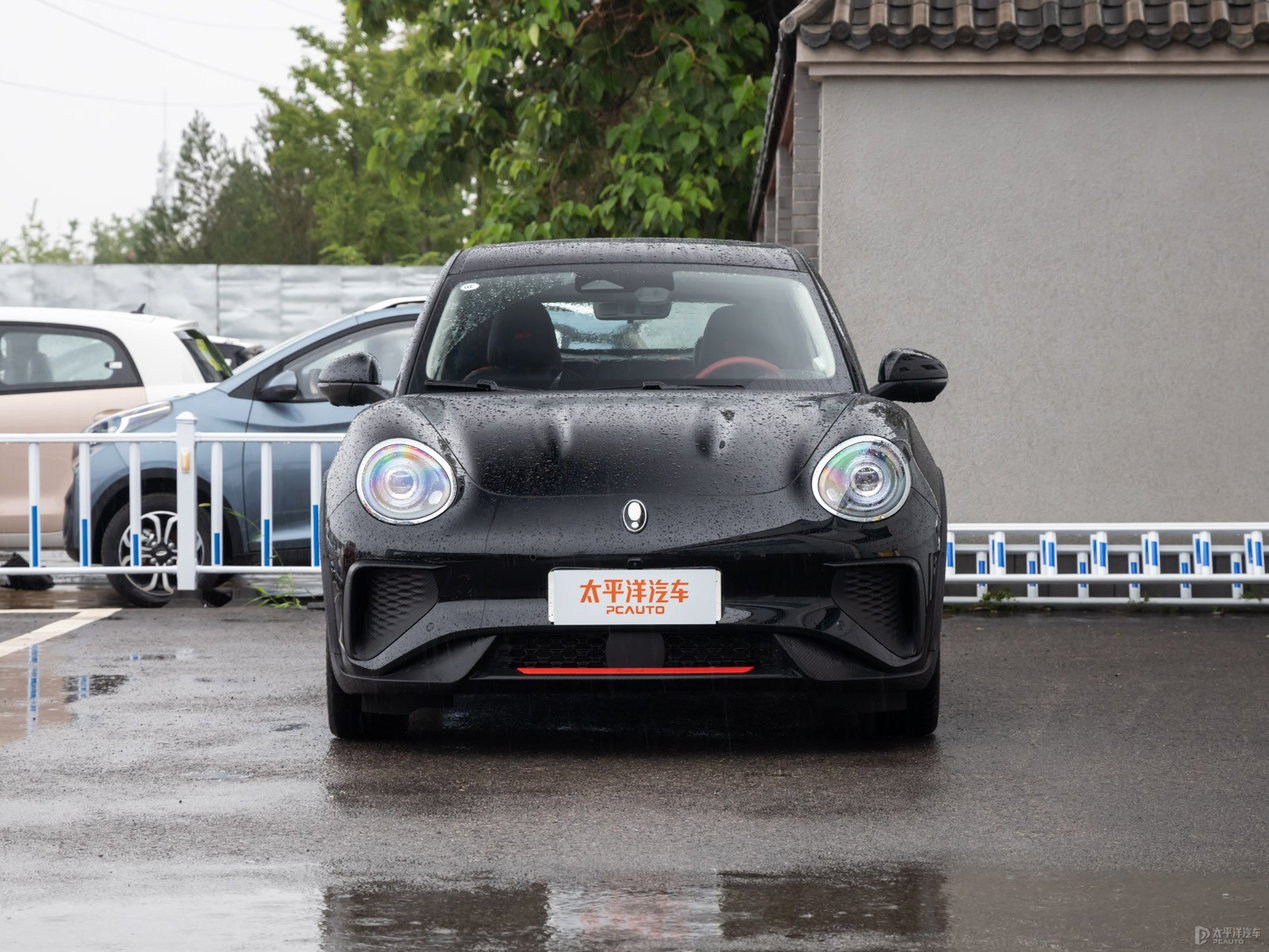ORA: (623, 500, 646, 532)
